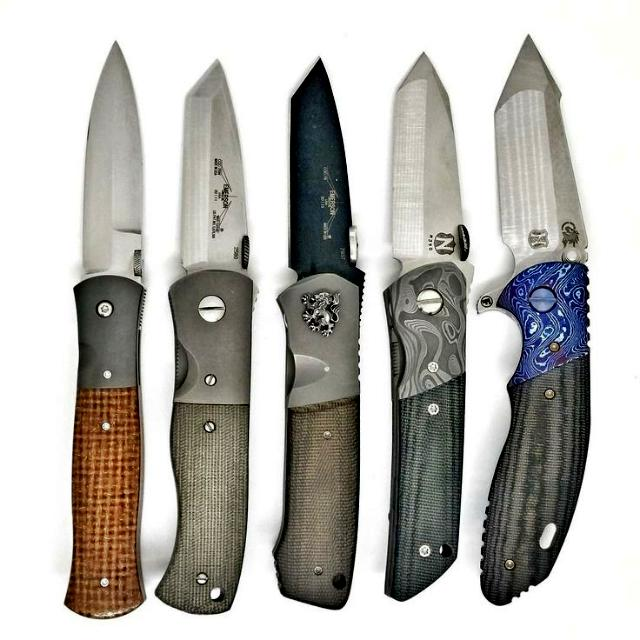pocket-knife: (474, 28, 596, 606), (153, 54, 265, 618), (370, 44, 480, 608), (266, 51, 368, 615), (57, 34, 151, 622)
